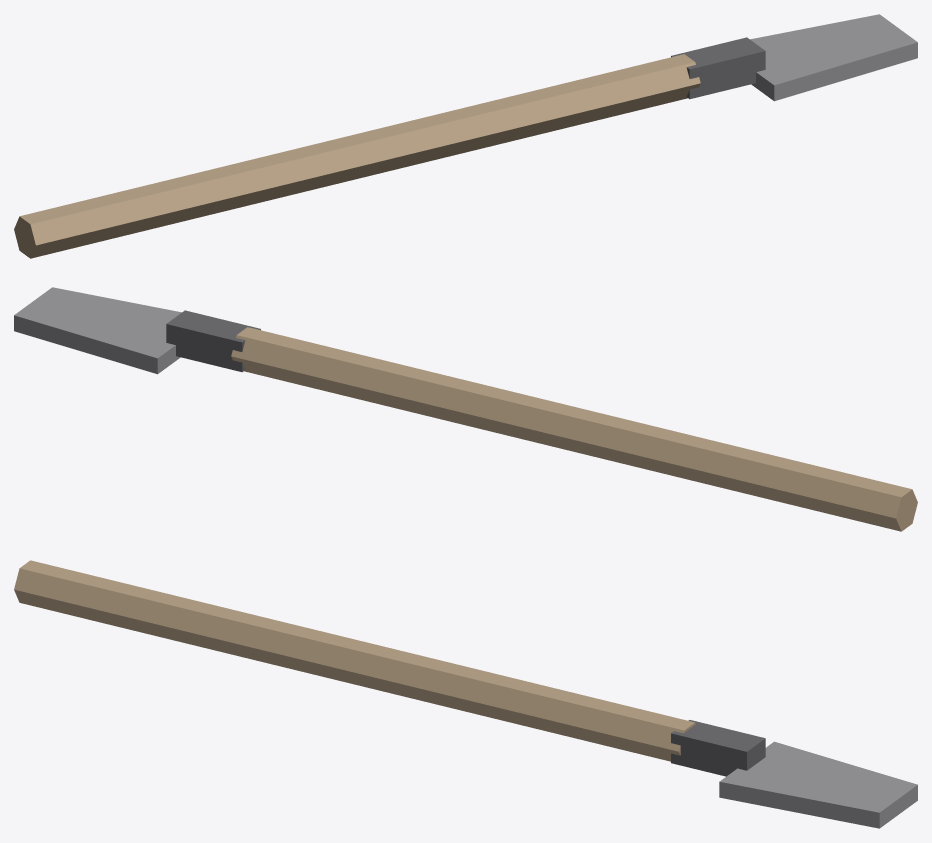
The model's file is prop-barking-spud-blank.fbx.
3 views of the same model, one above another, from view 1: azimuth 30°, elevation 25°; view 2: azimuth 150°, elevation 25°; view 3: azimuth 330°, elevation 25° (orthographic).
Parts seen in each view (by area): view 1: prop-barking-spud-blank; view 2: prop-barking-spud-blank; view 3: prop-barking-spud-blank.
Boxes of the visible parts, x1,y1,x2,y2 form: prop-barking-spud-blank: (14, 14, 917, 258); prop-barking-spud-blank: (14, 287, 917, 531); prop-barking-spud-blank: (14, 560, 917, 828).
Size of the model in its own units: 92 by 3.73 by 10.
